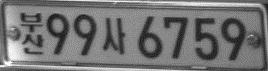5: (194, 17, 218, 60)
6: (137, 15, 162, 58)
7: (163, 15, 187, 59)
9: (220, 16, 245, 61), (72, 12, 96, 54), (46, 12, 69, 54)
부산_V: (19, 11, 45, 54)
사: (101, 17, 126, 54)
